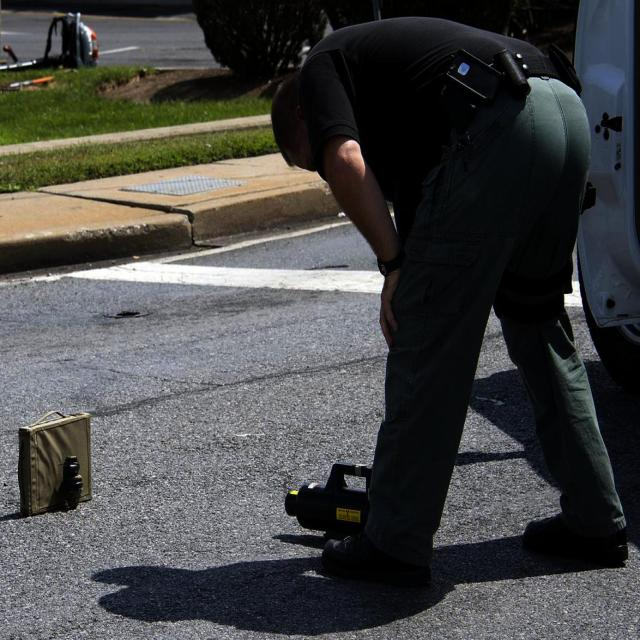grenade: (62, 455, 85, 513)
